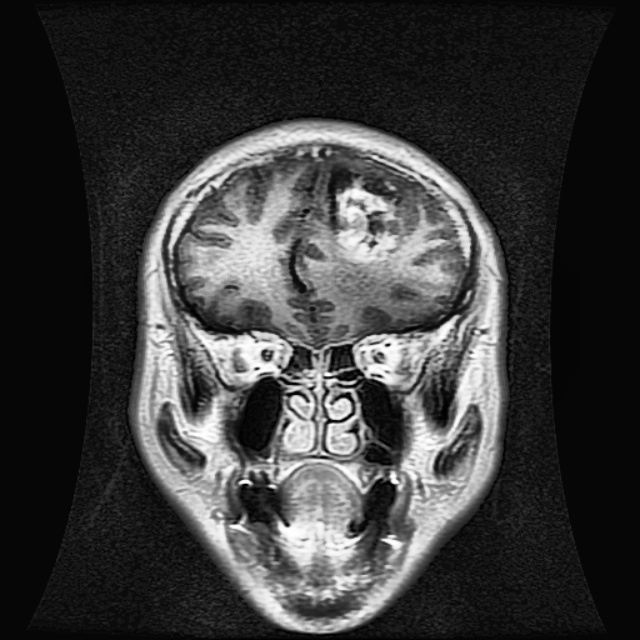Meningioma: (327, 160, 408, 262)
